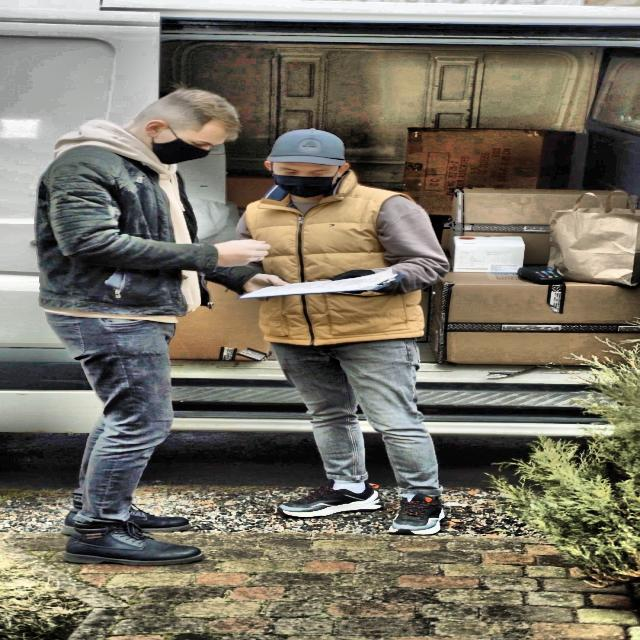gloved: (210, 225, 284, 275), (329, 264, 401, 294), (246, 268, 290, 312)
